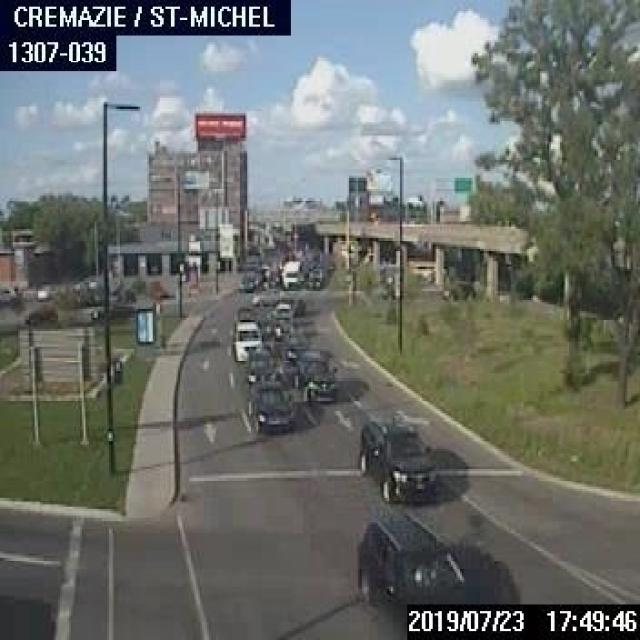vehicle: (356, 509, 467, 627), (356, 418, 438, 502), (246, 378, 293, 436), (292, 349, 336, 403), (244, 344, 278, 382), (232, 317, 261, 361), (91, 299, 136, 319), (24, 304, 56, 324), (440, 280, 475, 298), (280, 258, 301, 288), (250, 286, 281, 306), (271, 302, 293, 321), (307, 262, 322, 287), (36, 282, 55, 300), (238, 270, 254, 290), (0, 285, 16, 301)
